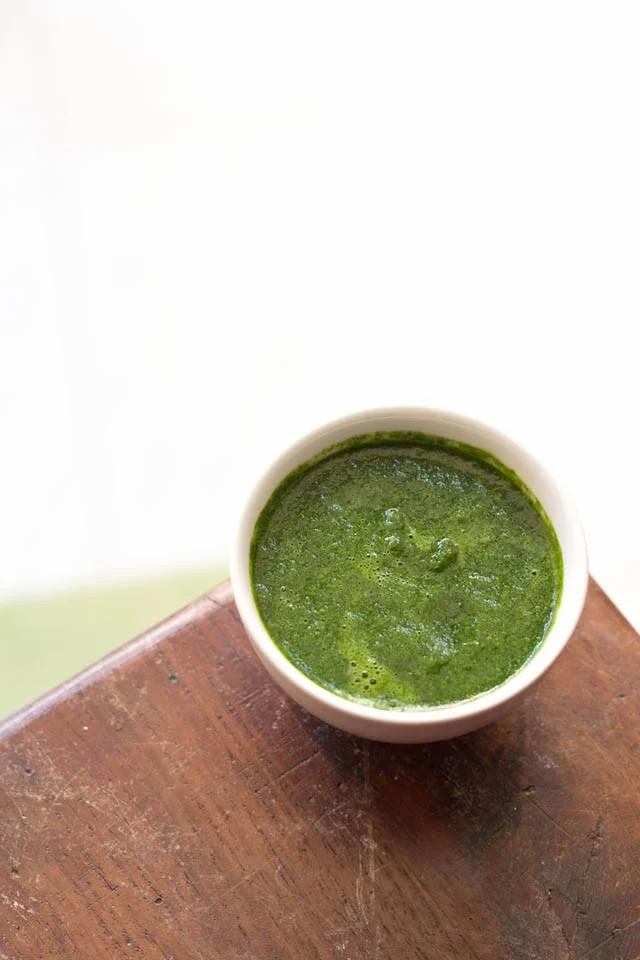GreenChutney: (253, 434, 558, 702)
